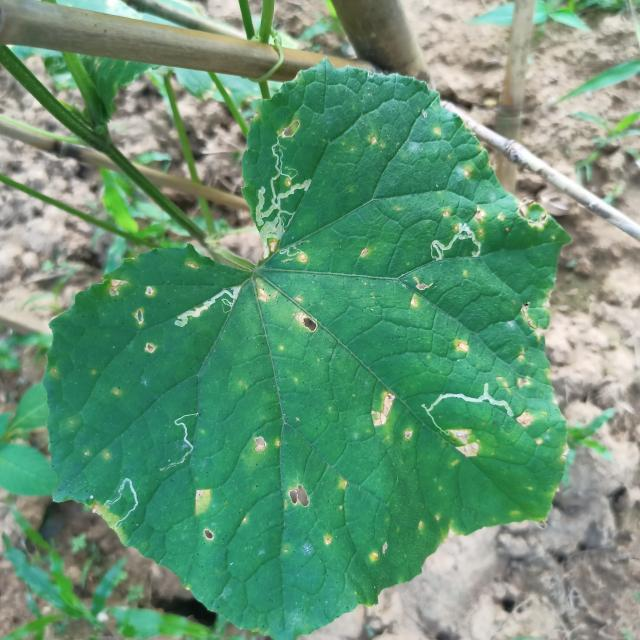disease_cucumber: (501, 352, 569, 450), (283, 472, 354, 559), (258, 252, 328, 340), (433, 182, 545, 230), (104, 275, 162, 362), (364, 389, 415, 448), (186, 480, 228, 548), (446, 423, 482, 465), (358, 122, 392, 159), (243, 432, 282, 459)
